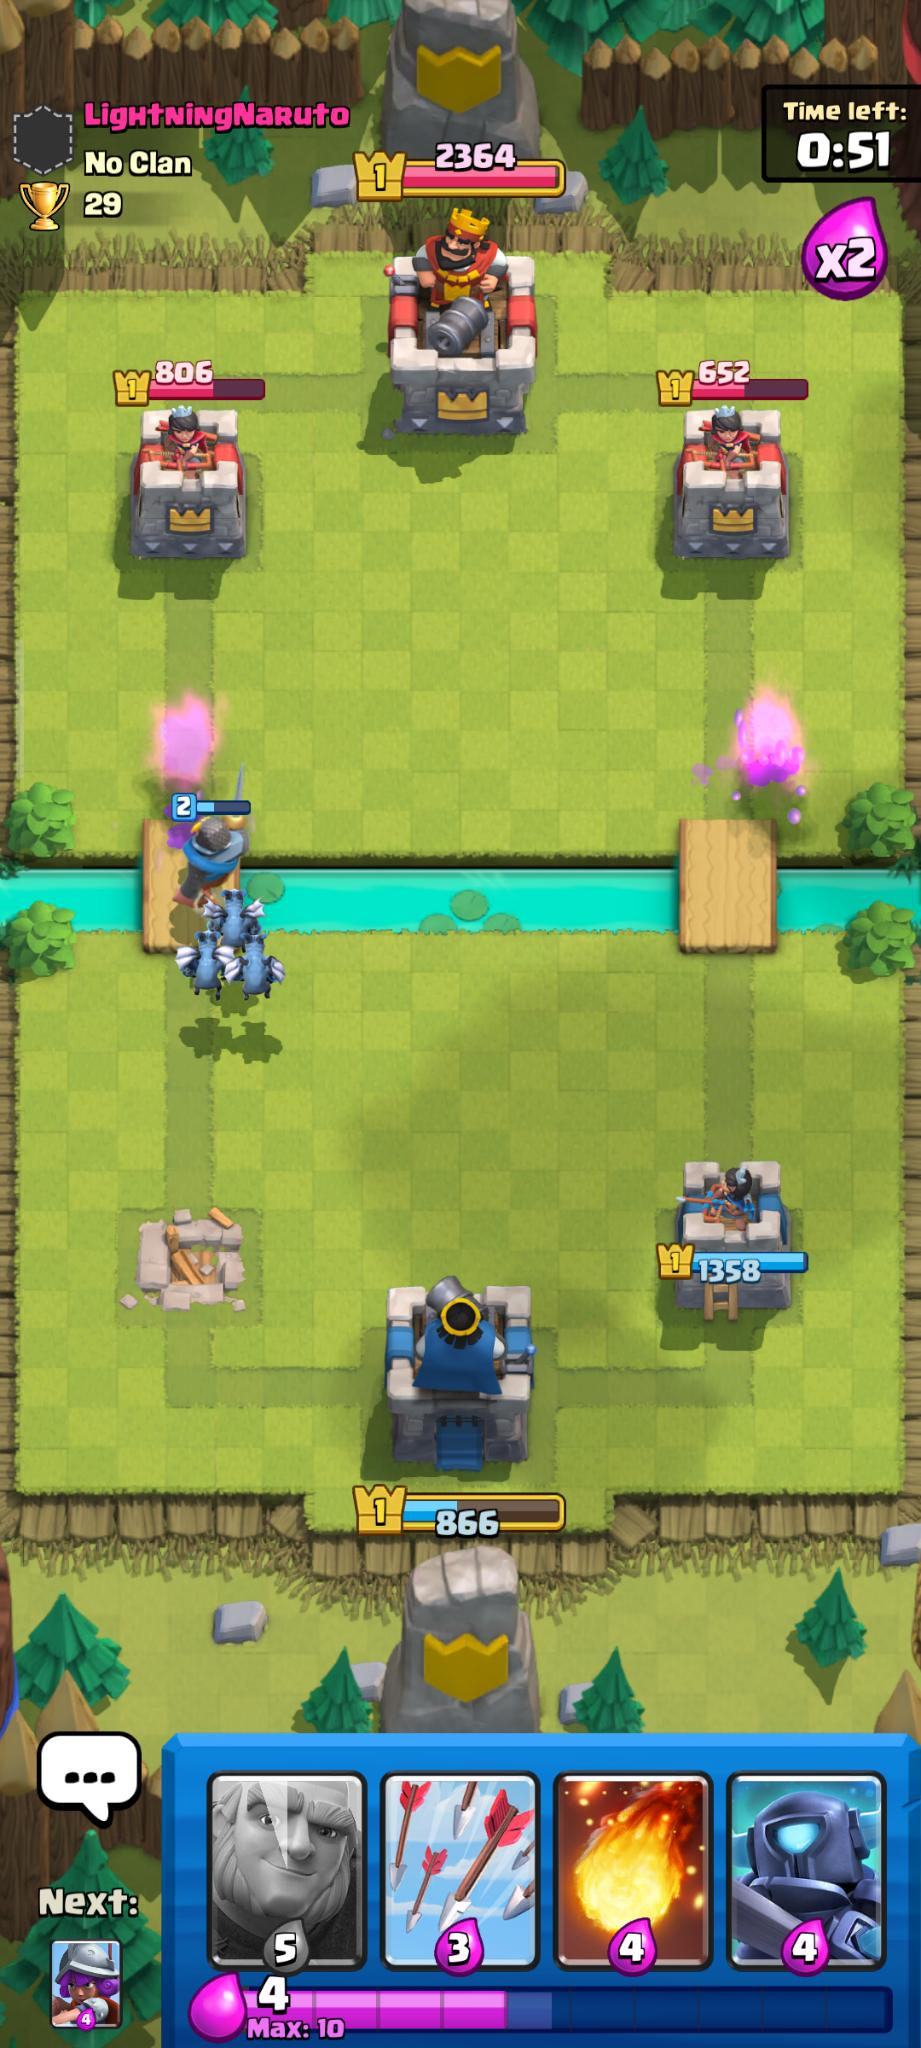chevalier: (167, 793, 260, 921)
gargouille: (212, 886, 265, 952), (234, 933, 285, 1000), (183, 935, 229, 1004)
